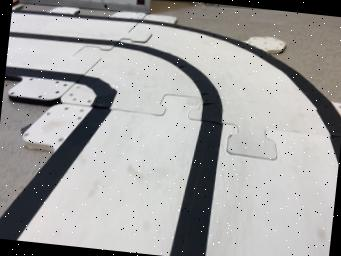street: (0, 7, 341, 256), (0, 7, 341, 256), (0, 7, 341, 256), (0, 7, 341, 256), (0, 7, 341, 256)
